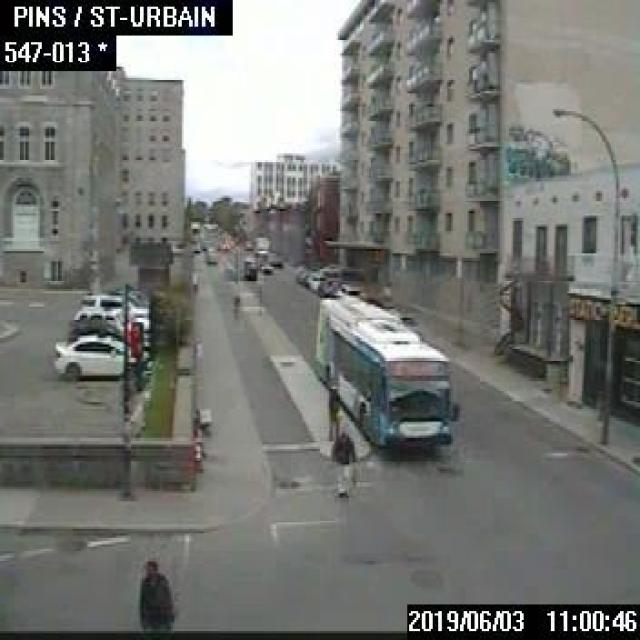bus: (313, 293, 458, 449)
cyclist: (231, 290, 239, 318)
pedestrian: (133, 560, 171, 631), (329, 422, 355, 498)
vehicle: (52, 332, 149, 374), (75, 292, 148, 327), (67, 316, 150, 344), (316, 276, 346, 294), (334, 281, 365, 297), (304, 272, 325, 289), (202, 242, 218, 264), (294, 265, 312, 281)
